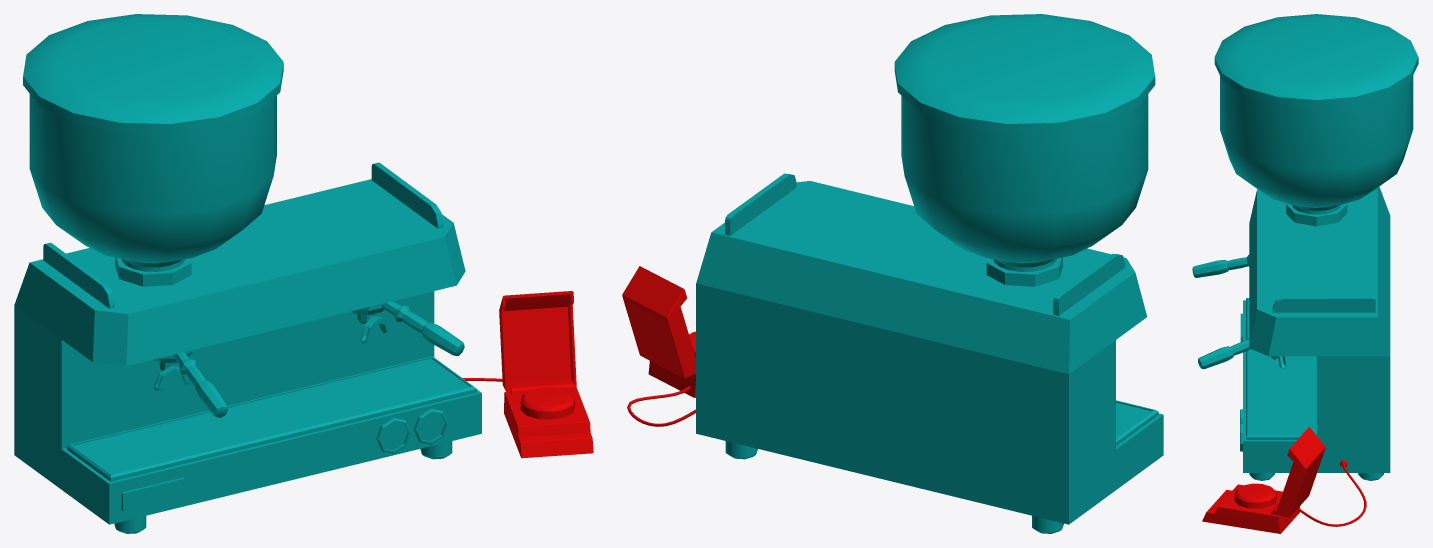
Rendered from SM_coffee_machine.fbx.
3 renders of one model, left to right at view 1: azimuth 30°, elevation 25°; view 2: azimuth 150°, elevation 25°; view 3: azimuth 270°, elevation 25°, orthographic. The views are drawn at different scales.
Parts seen in each view (by area): view 1: base (×2), lid (×2), hopper, wings, pCylinder5 (×2), Button, hopper_base, dial_02, dial_01, feet; view 2: base (×2), lid (×2), hopper, wings, hopper_base, feet; view 3: base (×2), hopper, lid (×2), wings, pCylinder5 (×2), Button, hopper_base, cable, feet.
Boxes of the visible parts, bbox=[...] form: base (×2): bbox=[14, 179, 593, 524]; lid (×2): bbox=[23, 14, 576, 392]; hopper: bbox=[29, 94, 276, 271]; wings: bbox=[43, 162, 443, 308]; pCylinder5 (×2): bbox=[174, 301, 464, 417]; Button: bbox=[520, 387, 574, 419]; hopper_base: bbox=[115, 257, 191, 286]; dial_02: bbox=[376, 417, 410, 453]; dial_01: bbox=[413, 408, 448, 444]; feet: bbox=[114, 441, 452, 533]; base (×2): bbox=[648, 181, 1163, 524]; lid (×2): bbox=[622, 14, 1155, 378]; hopper: bbox=[901, 94, 1148, 271]; wings: bbox=[725, 173, 1125, 315]; hopper_base: bbox=[986, 257, 1062, 286]; feet: bbox=[725, 441, 1063, 533]; base (×2): bbox=[1202, 186, 1390, 533]; hopper: bbox=[1220, 75, 1413, 214]; lid (×2): bbox=[1214, 14, 1418, 517]; wings: bbox=[1272, 296, 1375, 312]; pCylinder5 (×2): bbox=[1192, 254, 1250, 369]; Button: bbox=[1234, 483, 1276, 508]; hopper_base: bbox=[1286, 203, 1347, 226]; cable: bbox=[1297, 462, 1366, 526]; feet: bbox=[1249, 473, 1383, 480].
Bounding box in the file's own units: 130 × 102 × 62.76.
